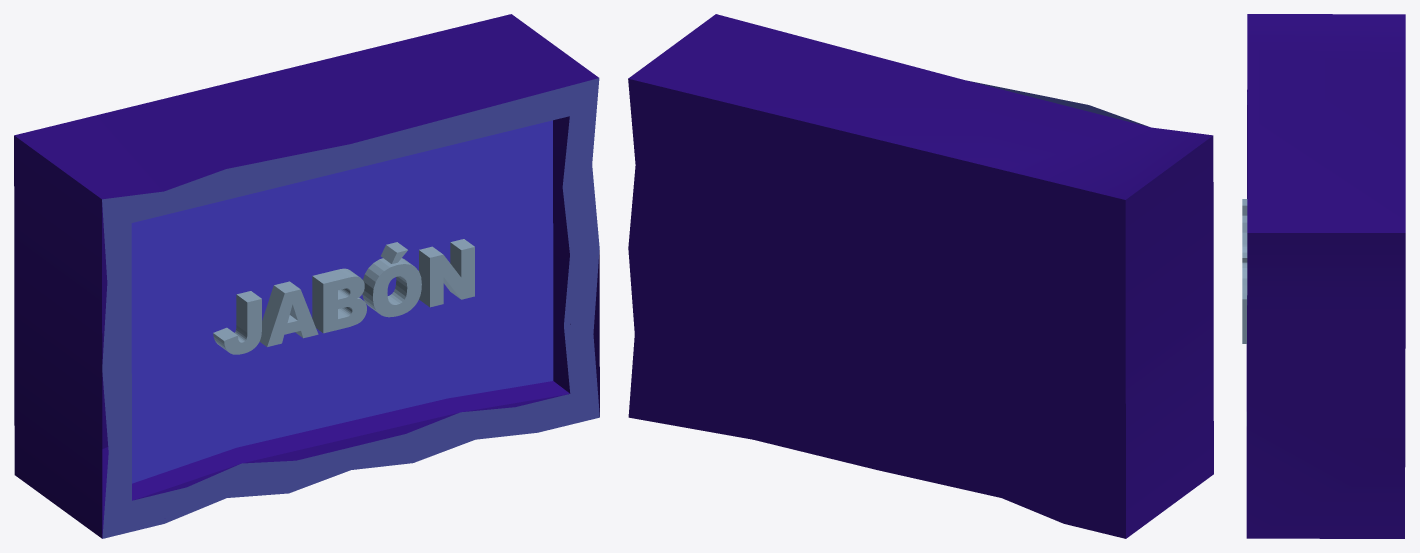
Rendered from jabon.glb.
The picture shows the model from 3 angles, left to right: view 1: azimuth 30°, elevation 25°; view 2: azimuth 150°, elevation 25°; view 3: azimuth 270°, elevation 25°; orthographic projection. The views are drawn at different scales.
Visible parts, largest first — view 1: Jabon_Barra, Jabon_Texto; view 2: Jabon_Barra; view 3: Jabon_Barra, Jabon_Texto.
Part boxes in pixels (left/top/right/bottom): Jabon_Barra: left=14, top=14, right=599, bottom=538; Jabon_Texto: left=213, top=239, right=474, bottom=354; Jabon_Barra: left=628, top=14, right=1213, bottom=538; Jabon_Barra: left=1246, top=14, right=1405, bottom=538; Jabon_Texto: left=1242, top=199, right=1247, bottom=343.
Size of the model in its own units: 2.61 by 1.71 by 0.8263.
